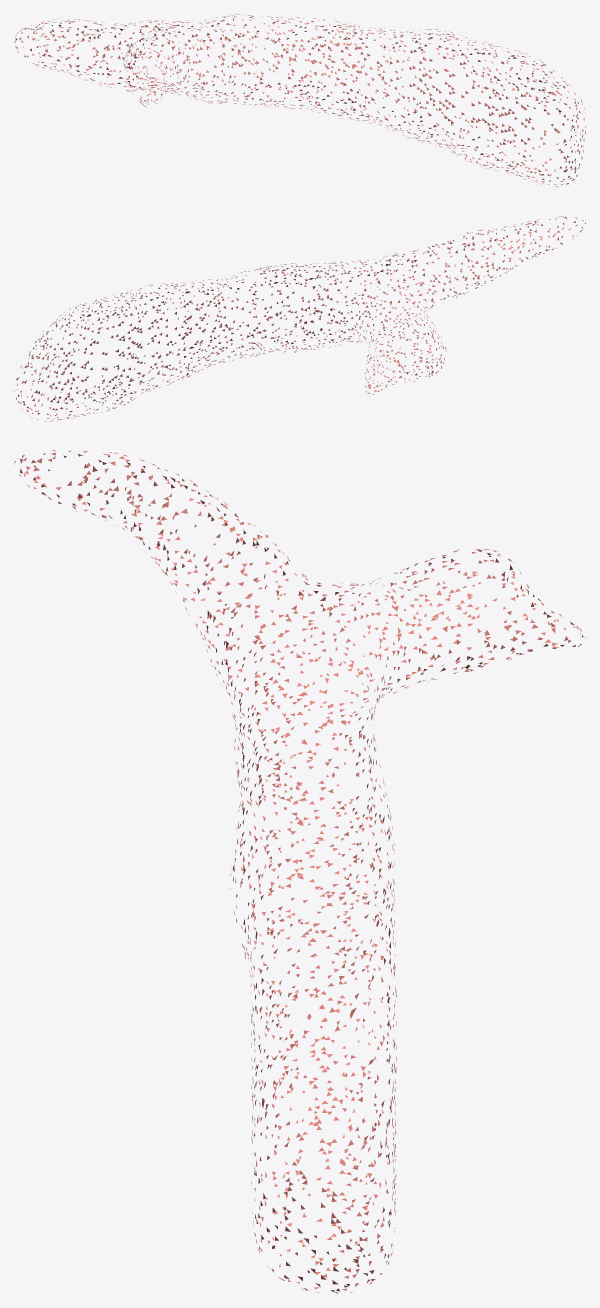
File: morph_001.glb
3 views of the same model, one above another, from view 1: azimuth 30°, elevation 25°; view 2: azimuth 150°, elevation 25°; view 3: azimuth 270°, elevation 25° (orthographic). The views are drawn at different scales.
Size of the model in its own units: 121 by 63.03 by 70.44.
